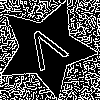V: (21, 23, 75, 81)
